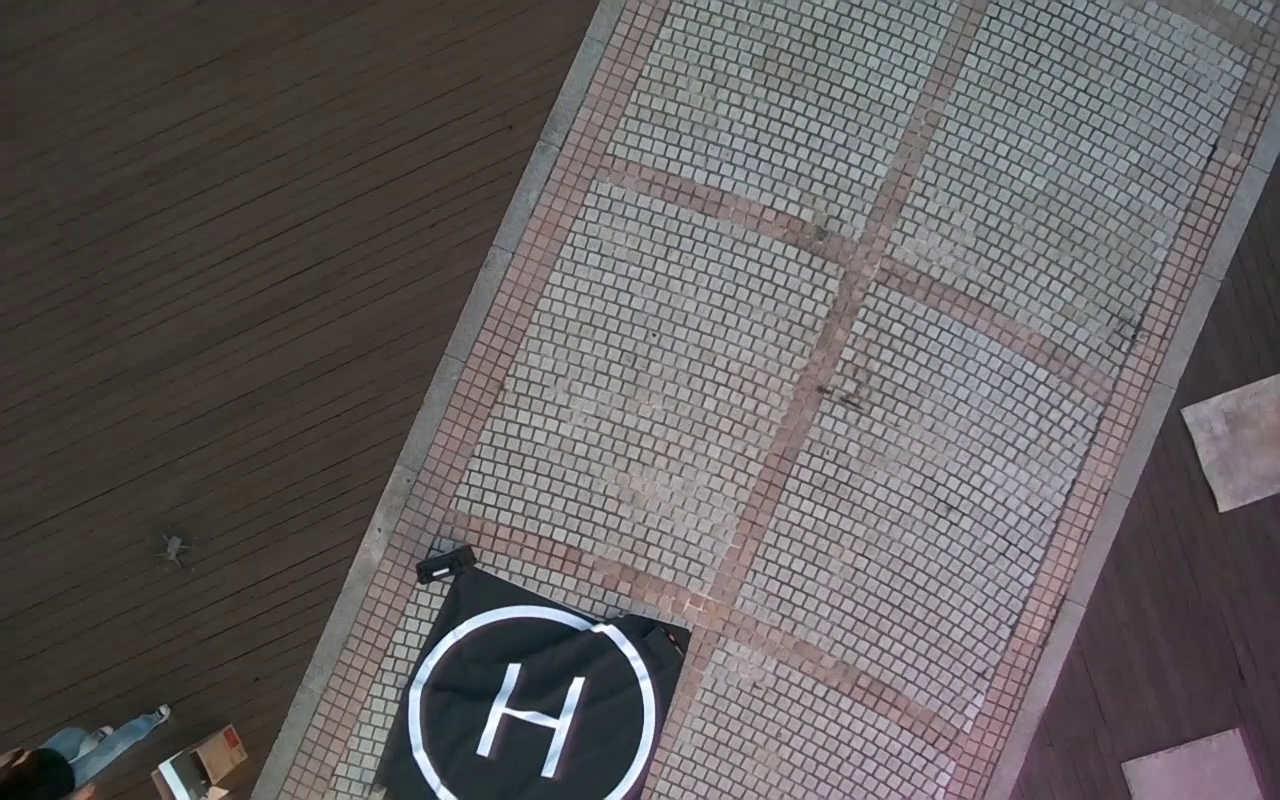H: (472, 660, 586, 779)
